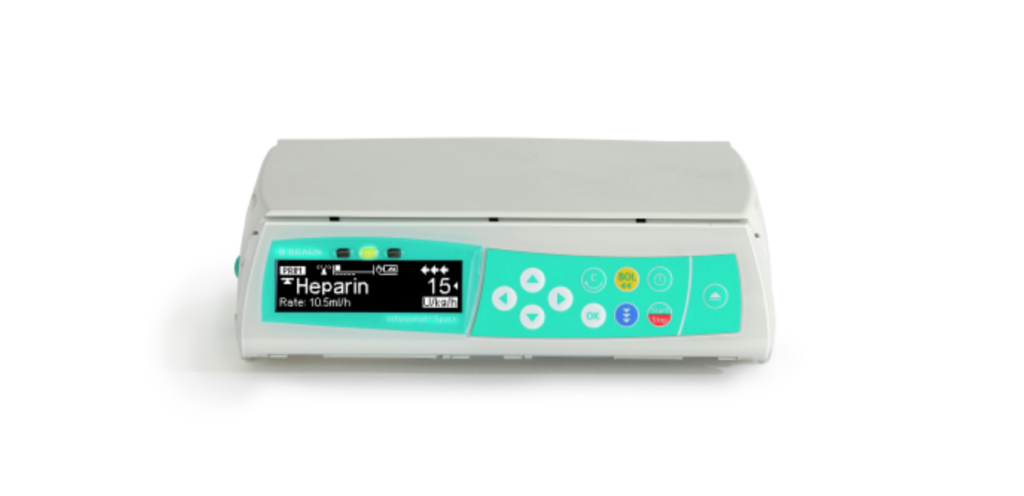BBraun Infusomat Space: (230, 130, 789, 377)
